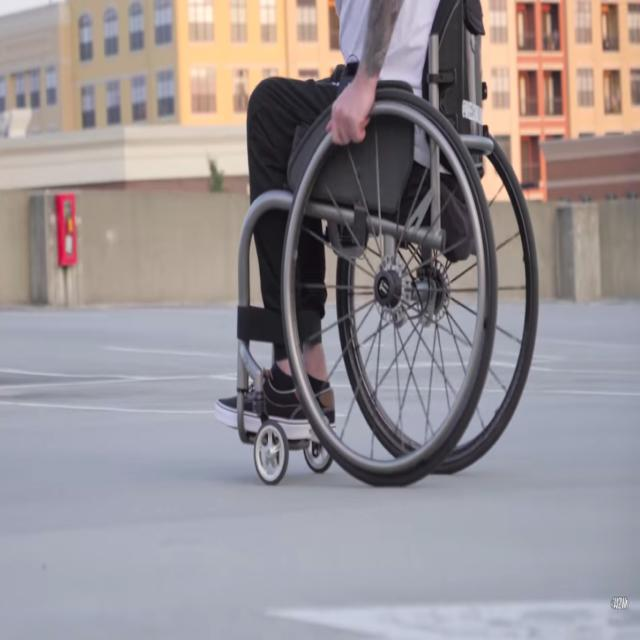wheelchairs: (229, 83, 537, 485)
